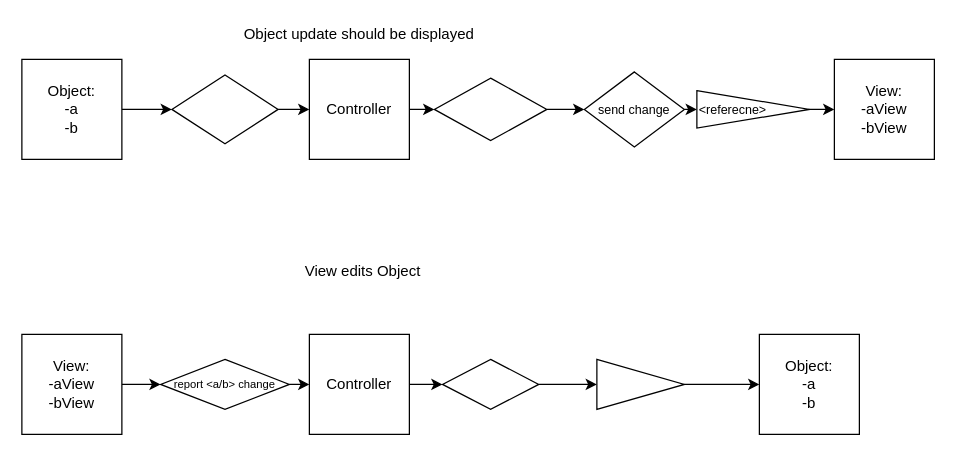
Image size: 956x456. Some labels were removed from this diagram. The box of each missing label's shape, as (x1, y1, x2, y2) in pixels:
evaluate changed attribute: (433, 77, 547, 141)
getNewValue: (441, 358, 539, 409)
reflective-set: (596, 358, 684, 409)
report change: (171, 74, 278, 144)
